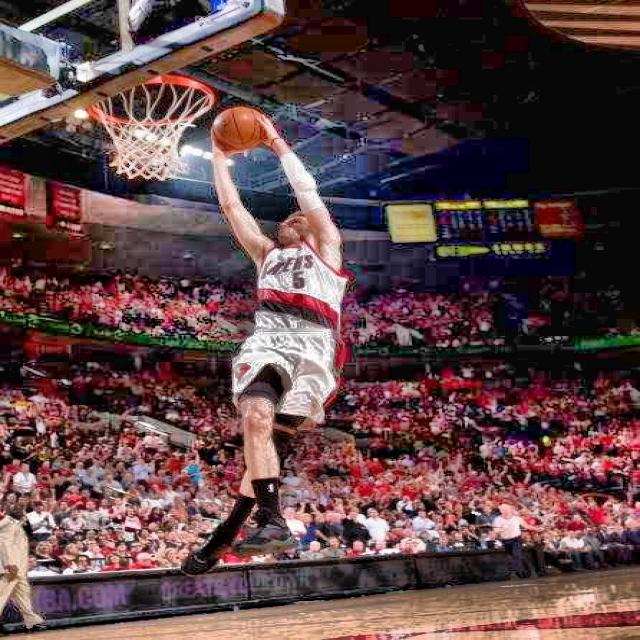rim: (83, 76, 213, 179)
